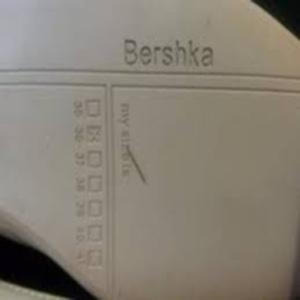bershka: (162, 17, 278, 51)
